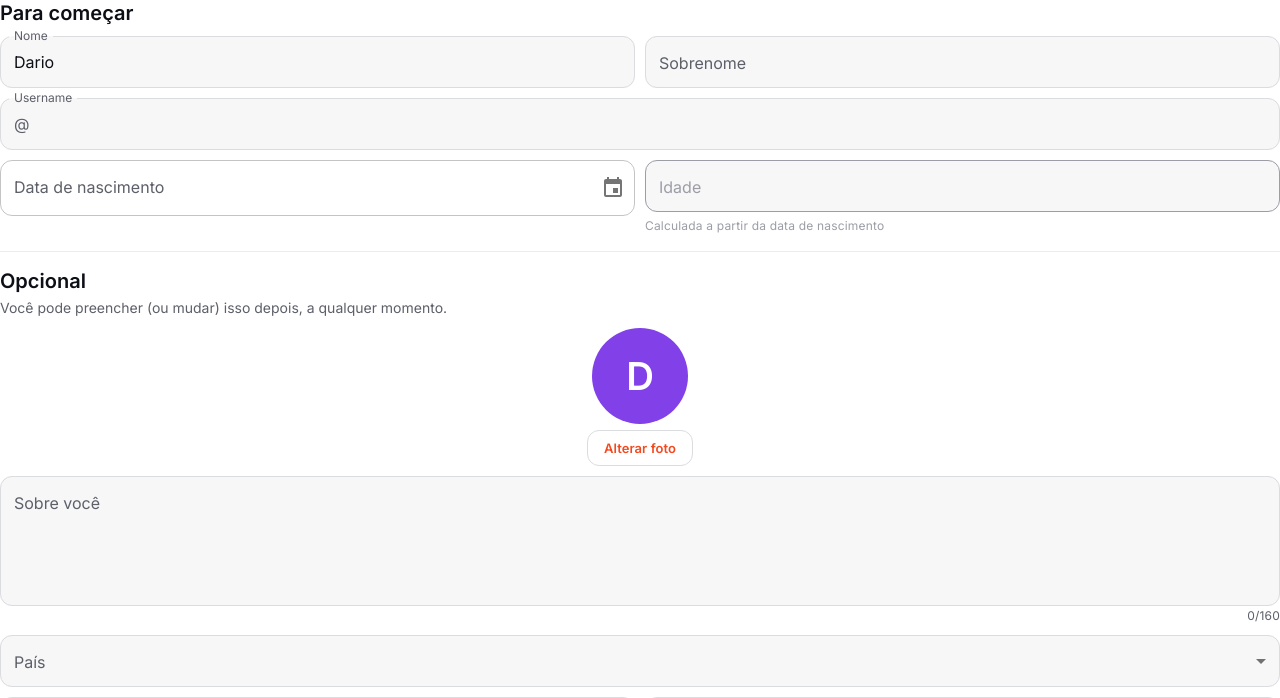
Test: OnboardingForm › shows "Verificando..." then "Disponível" for a well-formed, free username
Type "novo_username" into the field labelled "Username" at coordinates (659, 124), box top-left (38, 99), bottom-right (1279, 150)
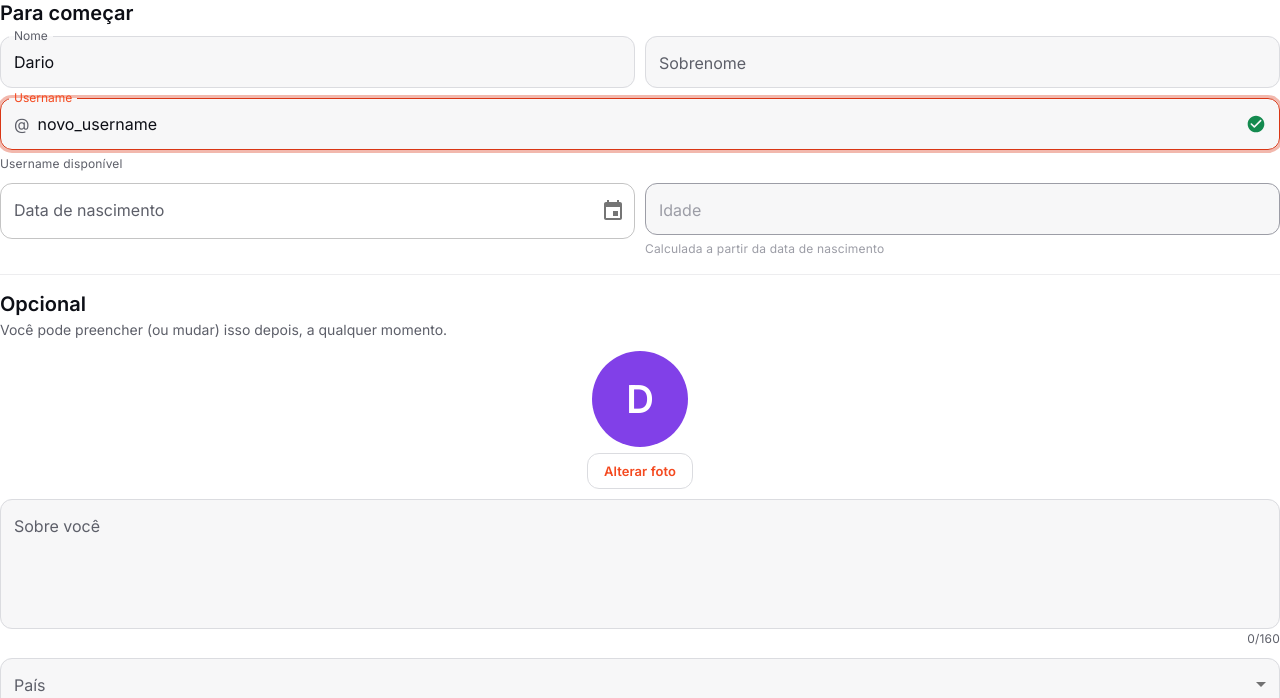
Check: the text "Username disponível" is shown, box top-left (0, 156), bottom-right (123, 171)
